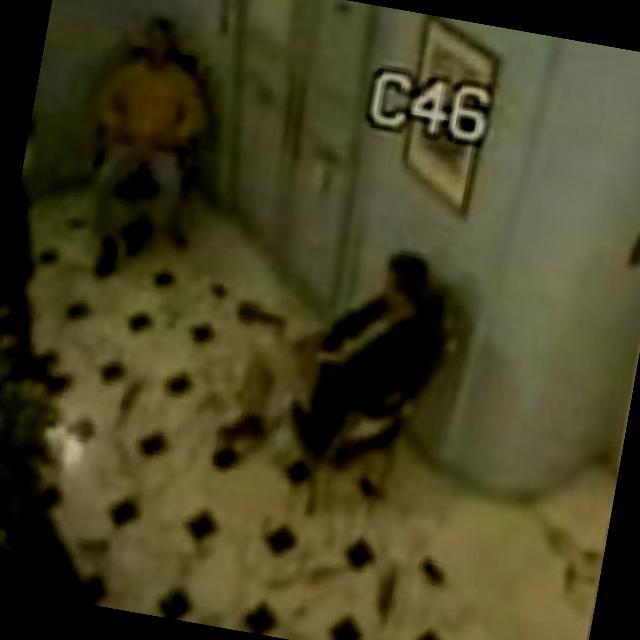Person: (55, 0, 223, 301), (276, 232, 448, 492)
